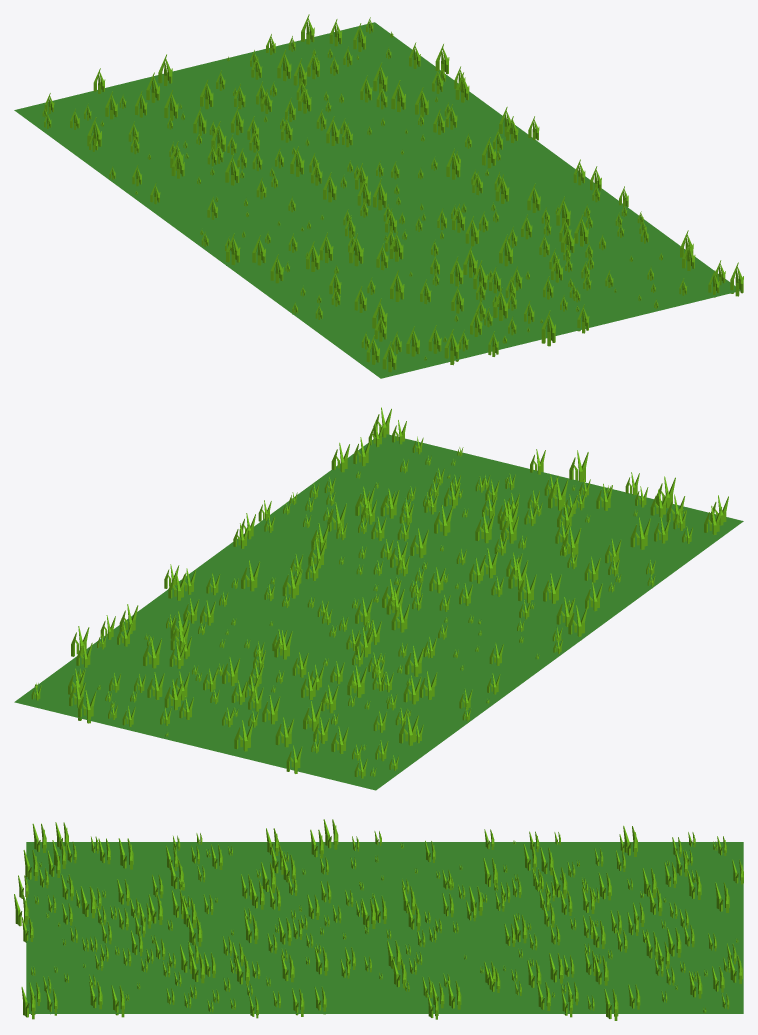
The model's file is Grass01Bande-parc.fbx.
3 views of the same model, one above another, from view 1: azimuth 30°, elevation 25°; view 2: azimuth 150°, elevation 25°; view 3: azimuth 270°, elevation 25° (orthographic). The views are drawn at different scales.
Visible parts, largest first — view 1: Grass_plan; view 2: Grass_plan; view 3: Grass_plan.
Part boxes in pixels (bbox=[...]): Grass_plan: bbox=[14, 22, 740, 378]; Grass_plan: bbox=[14, 434, 743, 790]; Grass_plan: bbox=[26, 842, 743, 1013].
Bounding box in the file's own units: 814 × 179 × 1429.
